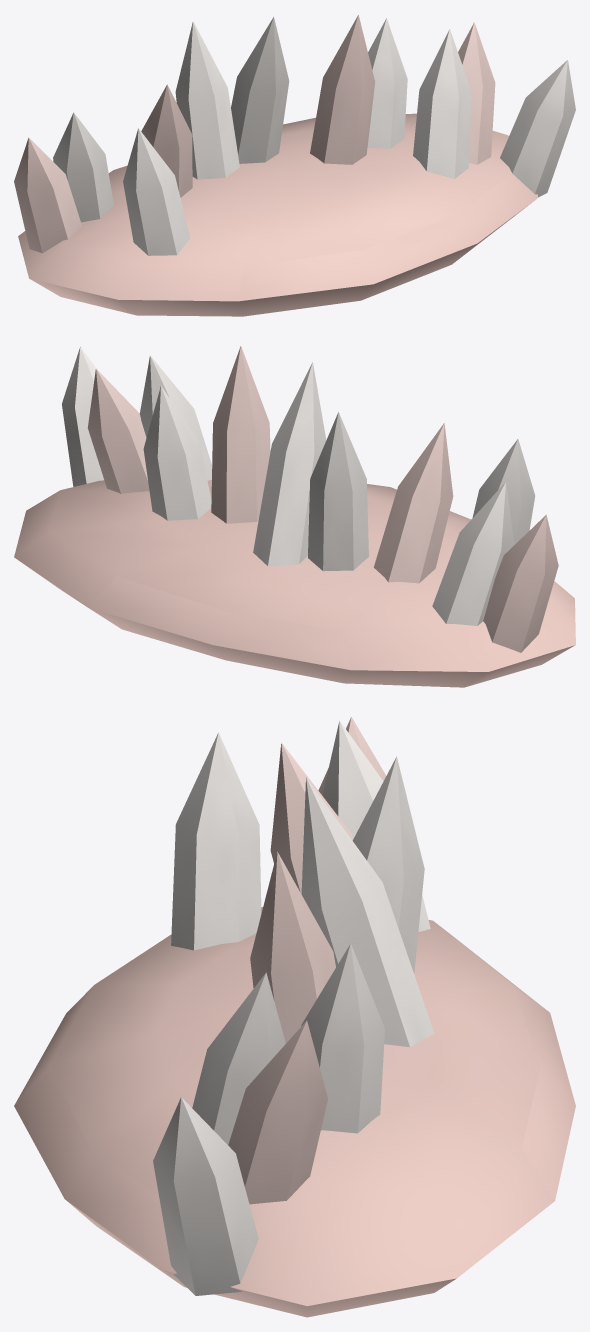
File: prop_salt.glb
The picture shows the model from 3 angles, top to bottom: view 1: azimuth 30°, elevation 25°; view 2: azimuth 150°, elevation 25°; view 3: azimuth 270°, elevation 25°; orthographic projection. The views are drawn at different scales.
Parts seen in each view (by area): view 1: prop_salt; view 2: prop_salt; view 3: prop_salt.
Part boxes in pixels (<box>): prop_salt: <box>14,15,575,316</box>; prop_salt: <box>14,346,575,687</box>; prop_salt: <box>14,717,575,1317</box>.
Size of the model in its own units: 1.79 by 0.85 by 1.07.
Materials: 1 (1 with a texture image).
